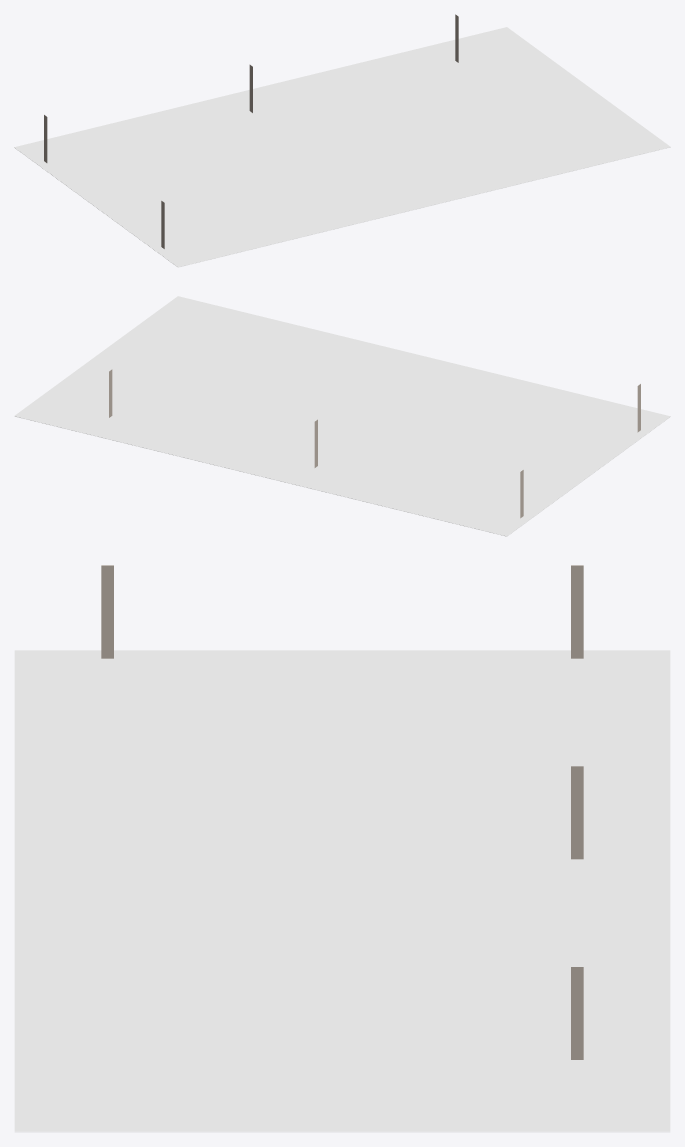
File: solpanel.glb
3 views of the same model, one above another, from view 1: azimuth 30°, elevation 25°; view 2: azimuth 150°, elevation 25°; view 3: azimuth 270°, elevation 25° (orthographic). The views are drawn at different scales.
Bounding box in the file's own units: 0.8871 × 0.0808 × 0.511.
